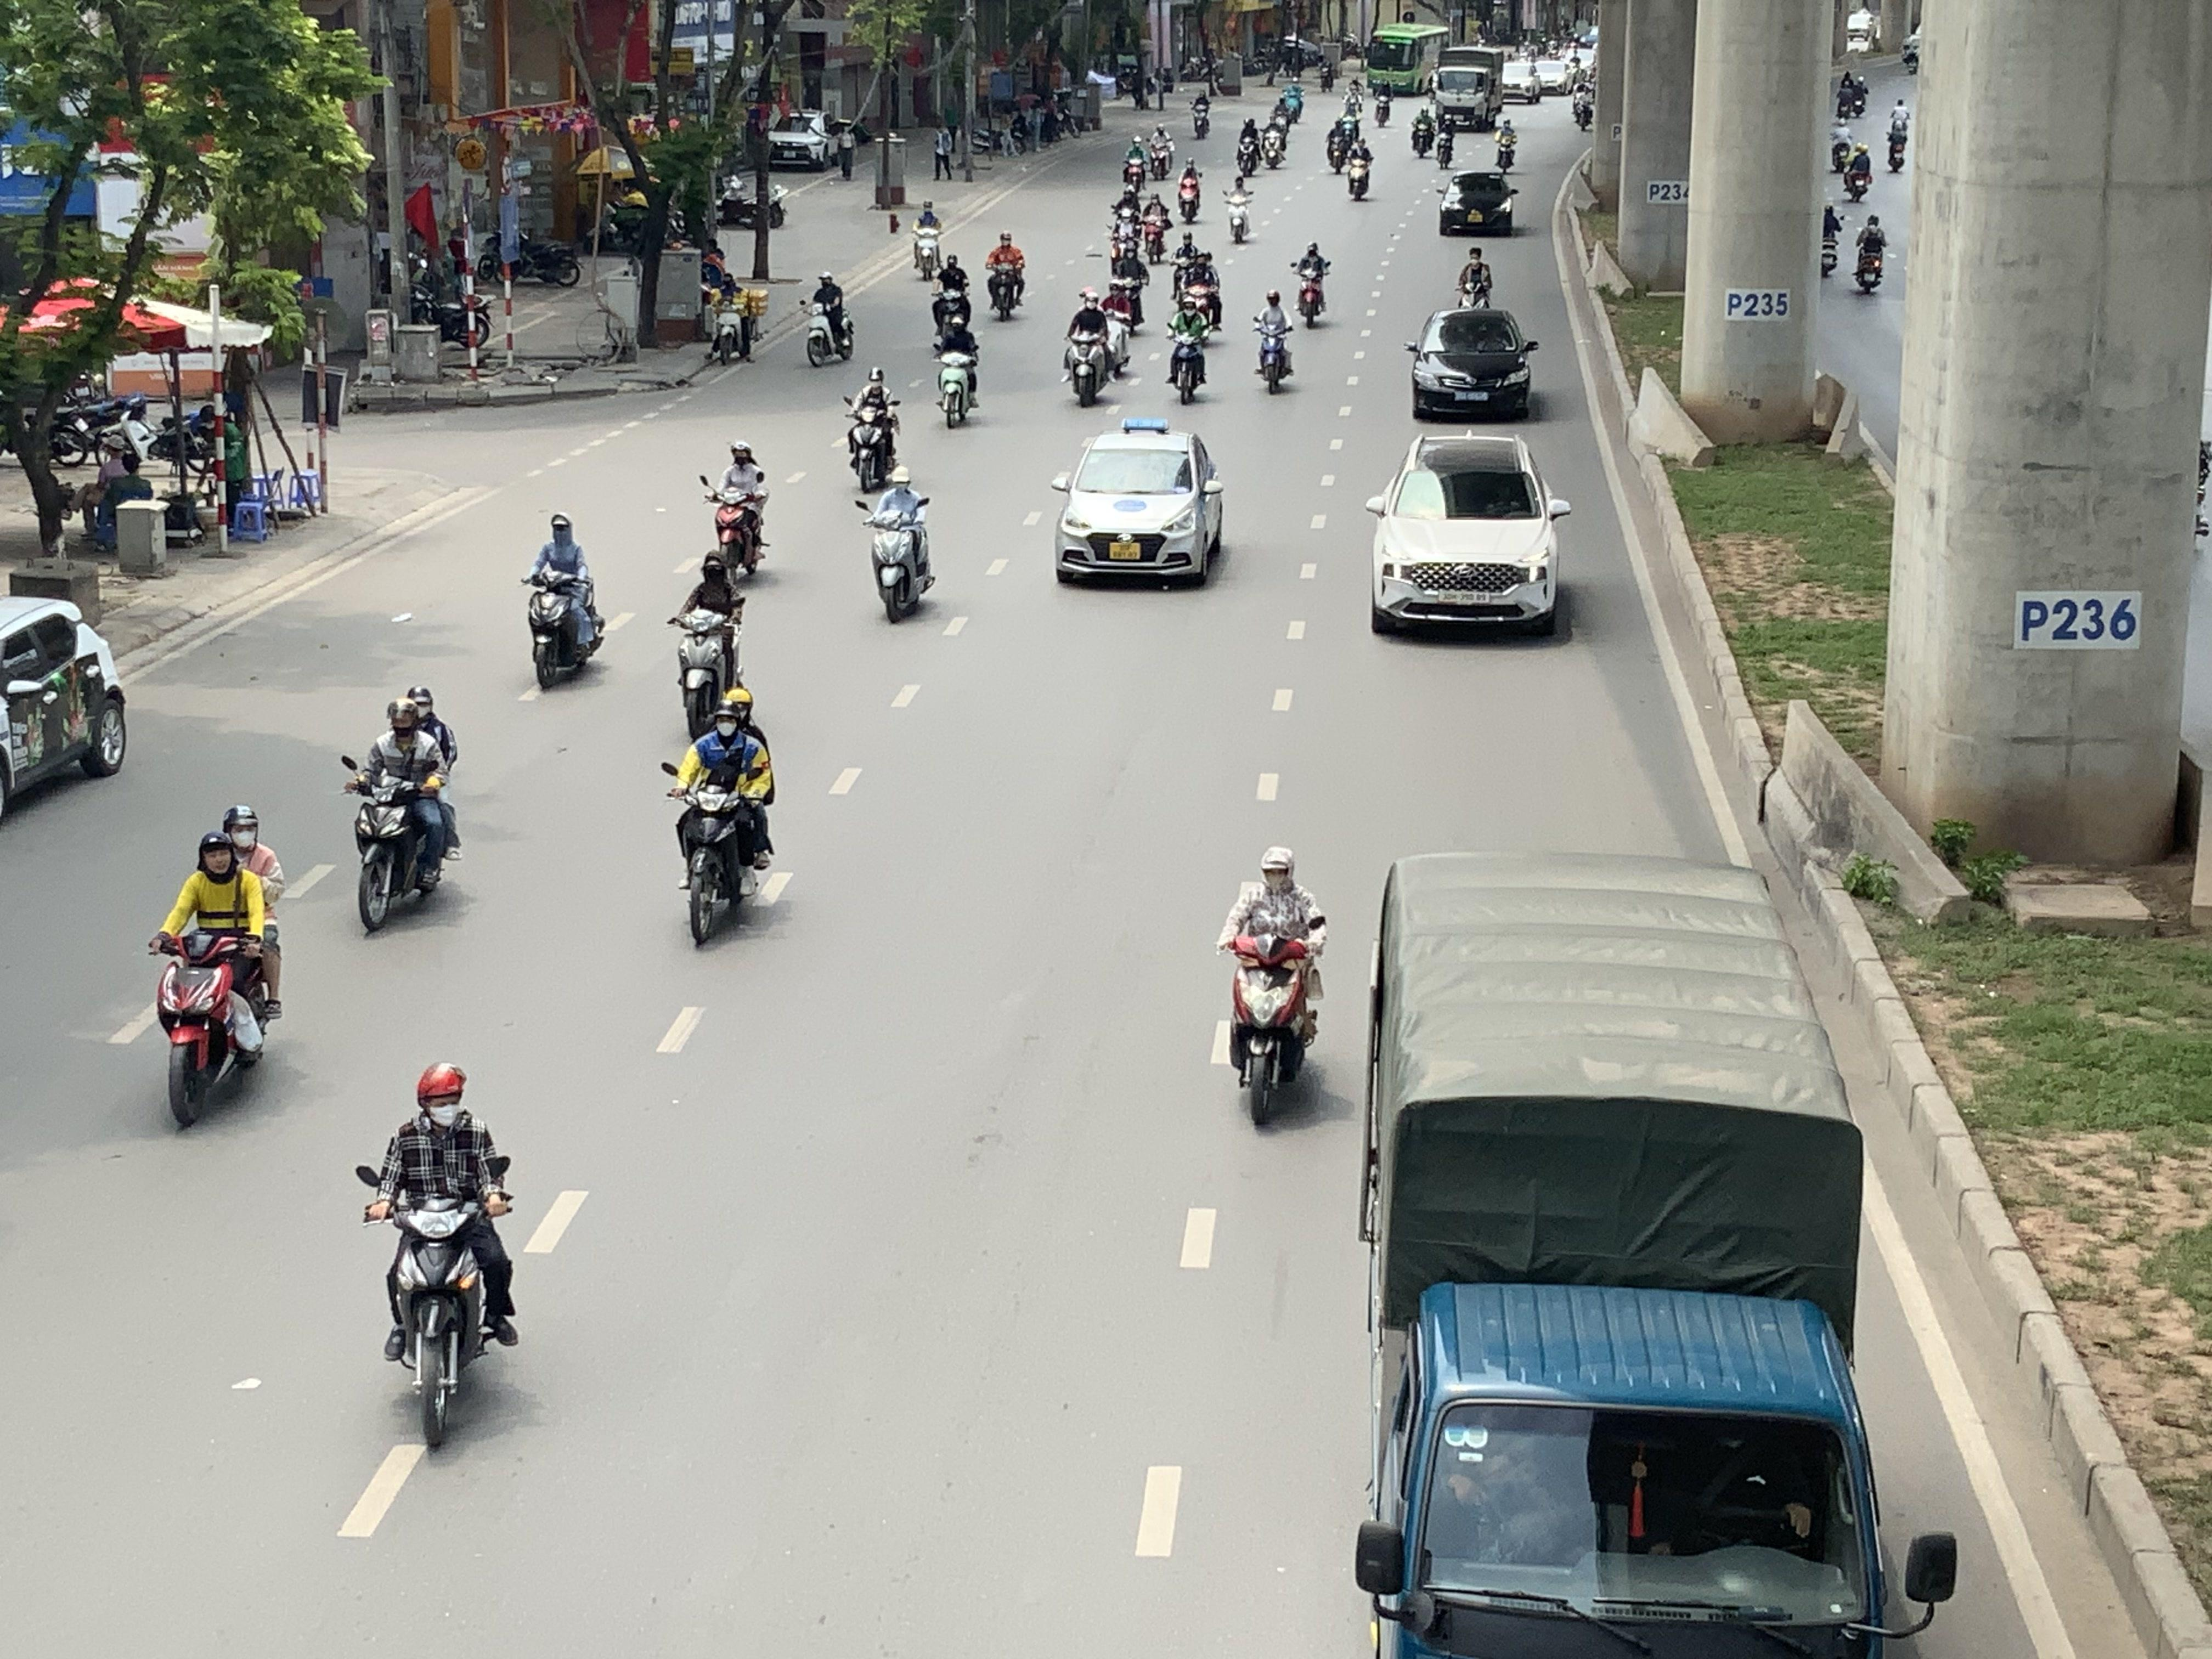BSD: (1439, 589, 1491, 603)
BSV: (1109, 542, 1141, 559)
bus: (1369, 24, 1454, 99)
car: (1364, 432, 1573, 638), (0, 592, 127, 831), (1052, 425, 1226, 589), (1406, 307, 1538, 422), (1437, 169, 1519, 237)
motorbike: (359, 1063, 519, 1452), (152, 821, 284, 1133), (1219, 845, 1327, 1131), (664, 688, 775, 950), (343, 690, 460, 934), (524, 512, 606, 692), (669, 549, 747, 735), (864, 464, 937, 624), (704, 439, 770, 582), (845, 366, 902, 491), (1062, 289, 1115, 408), (934, 308, 982, 427), (1165, 295, 1211, 404), (803, 272, 855, 366), (1252, 289, 1296, 394), (705, 279, 758, 366), (984, 230, 1028, 321), (1106, 246, 1150, 336), (930, 253, 975, 336), (1291, 240, 1331, 328), (1851, 211, 1890, 296), (1186, 246, 1223, 333), (911, 199, 944, 281), (1454, 244, 1494, 310), (1223, 171, 1256, 246), (1137, 192, 1170, 263), (1885, 98, 1914, 176), (1345, 129, 1374, 202), (1843, 136, 1874, 204), (1324, 108, 1355, 174), (1259, 105, 1289, 171), (1235, 112, 1264, 176), (1409, 98, 1439, 159), (1176, 160, 1204, 225), (1122, 134, 1150, 193), (1109, 207, 1139, 258), (1494, 113, 1519, 174), (1148, 122, 1174, 178), (1108, 181, 1141, 225), (1433, 112, 1458, 166)
truck: (1352, 847, 1952, 1659), (1437, 47, 1503, 129)
